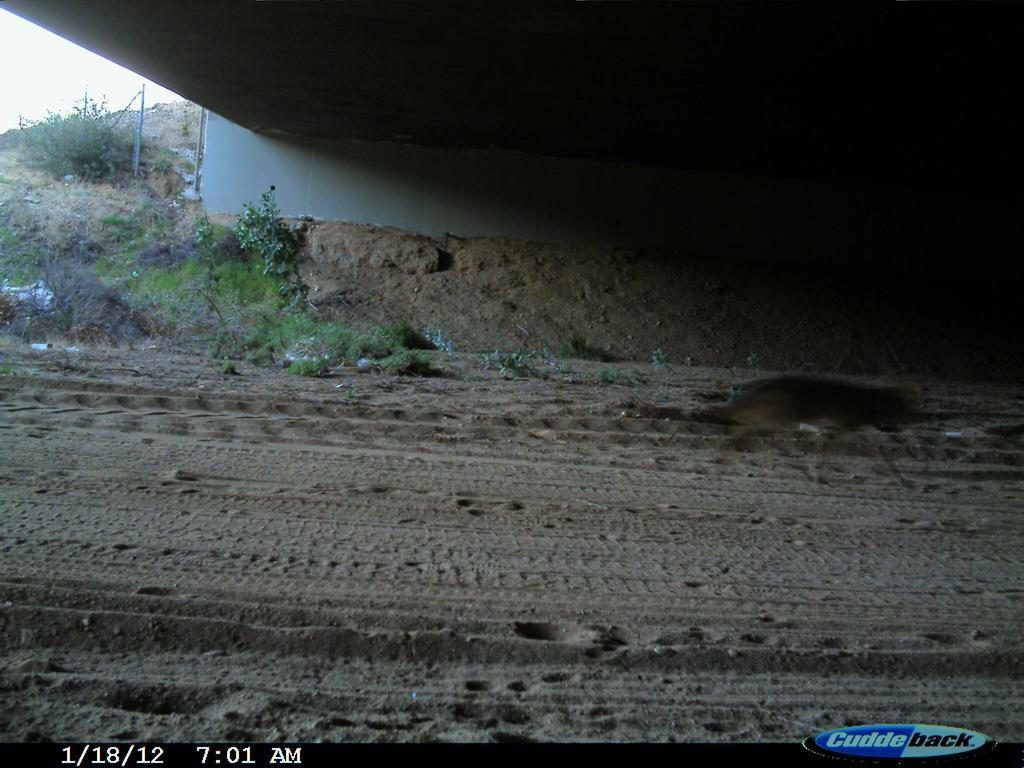coyote: (646, 361, 937, 500)
